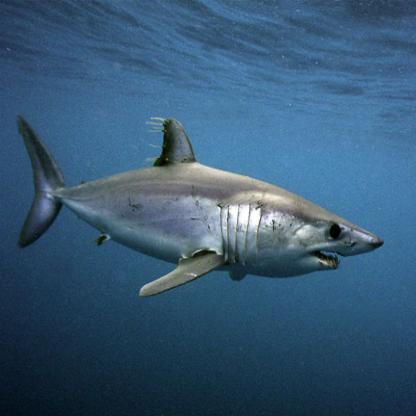shark: (8, 111, 387, 302)
